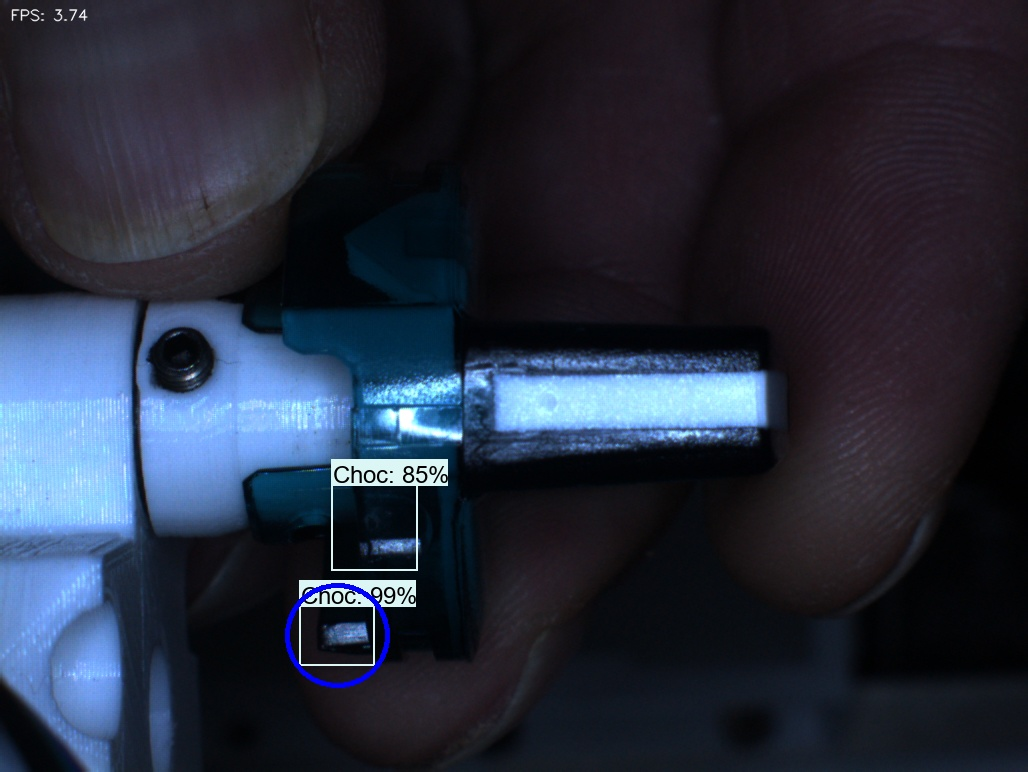DentOk: (318, 191, 391, 301)
